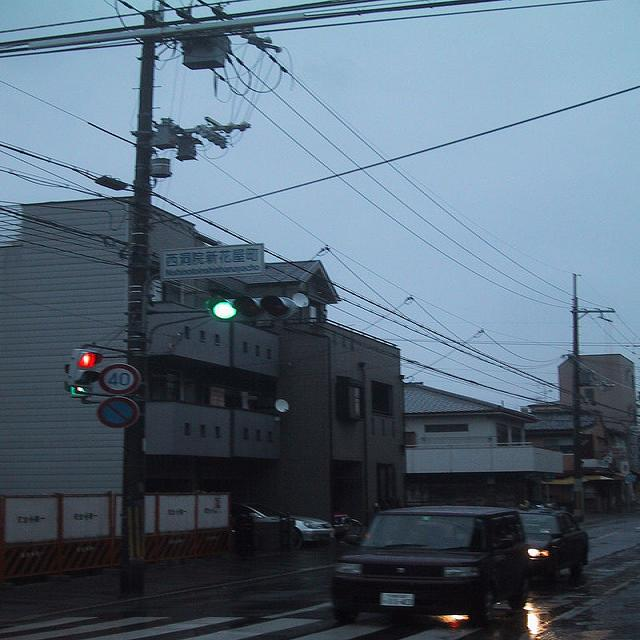Vehicle: (328, 506, 539, 631), (518, 510, 590, 580), (230, 502, 334, 549)
